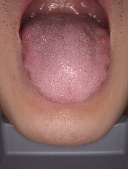tongue: (20, 24, 112, 104)
